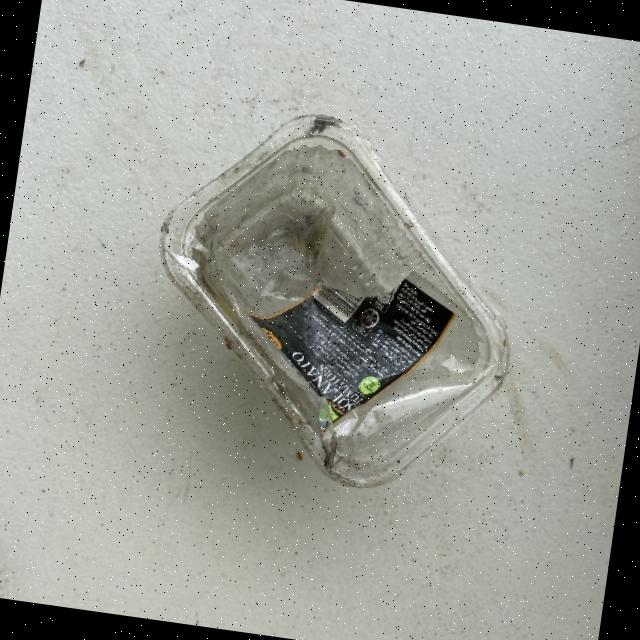plastic: (128, 92, 538, 506)
